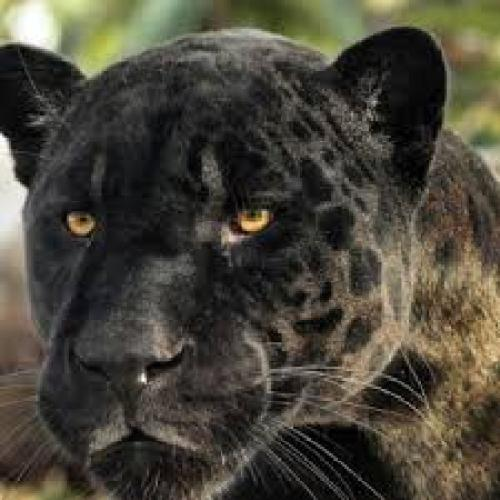panther-endangered: (0, 22, 469, 500)
